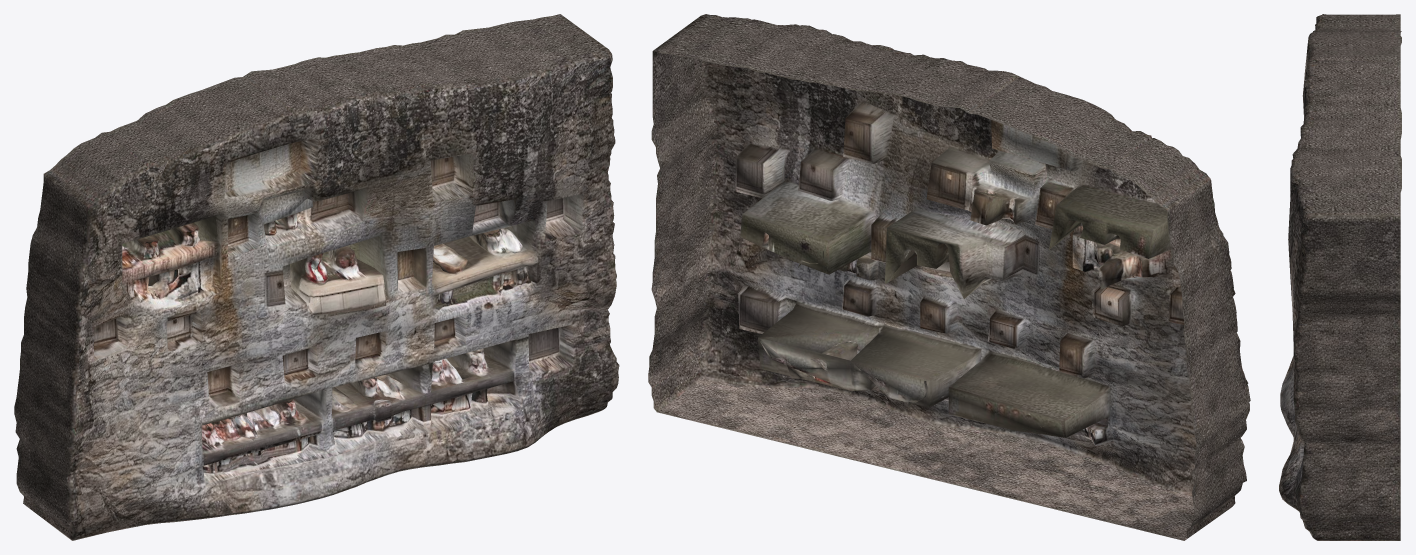
Rendered from toraja.glb.
3 renders of one model, left to right at view 1: azimuth 30°, elevation 25°; view 2: azimuth 150°, elevation 25°; view 3: azimuth 270°, elevation 25°, orthographic. The views are drawn at different scales.
Parts seen in each view (by area): view 1: tripo_node_36907f85-ec47-4c31-8de6-56fb39762cbc; view 2: tripo_node_36907f85-ec47-4c31-8de6-56fb39762cbc; view 3: tripo_node_36907f85-ec47-4c31-8de6-56fb39762cbc.
Part boxes in pixels (box(x1,y1,x2,y2)): tripo_node_36907f85-ec47-4c31-8de6-56fb39762cbc: box(14, 14, 619, 540); tripo_node_36907f85-ec47-4c31-8de6-56fb39762cbc: box(648, 14, 1250, 540); tripo_node_36907f85-ec47-4c31-8de6-56fb39762cbc: box(1279, 14, 1401, 540).
Size of the model in its own units: 0.998 by 0.6582 by 0.2129.
Materials: 1 (1 with a texture image).
